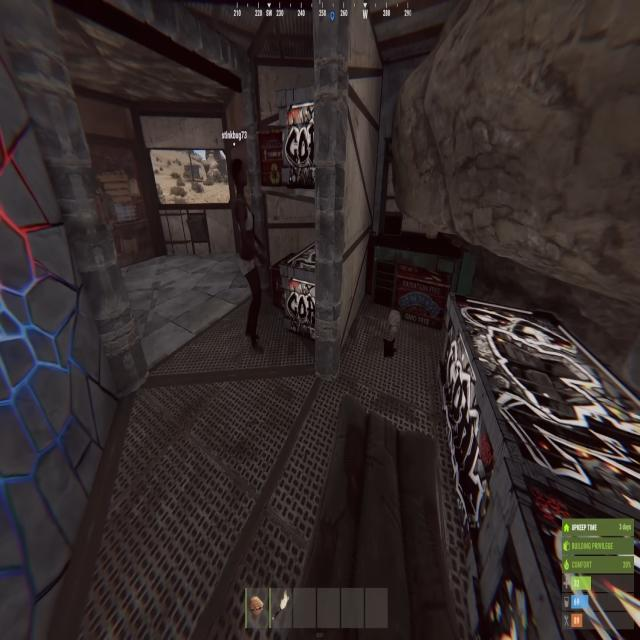Player: (227, 149, 274, 362)
